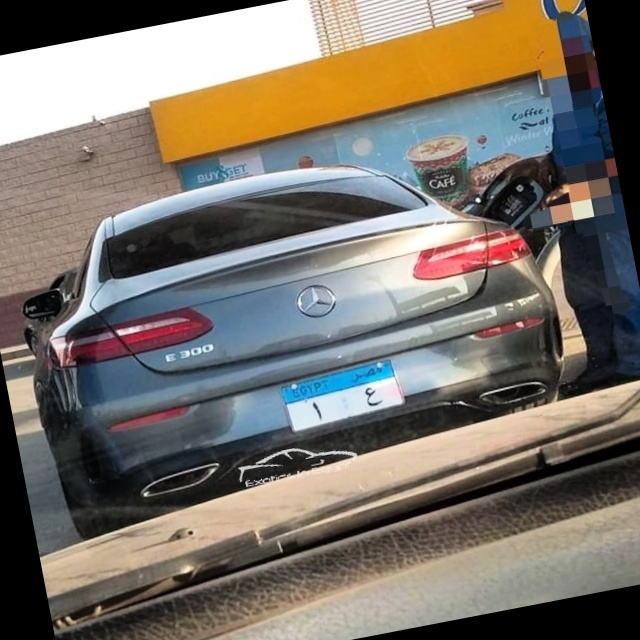License Plate: (276, 353, 409, 437)
